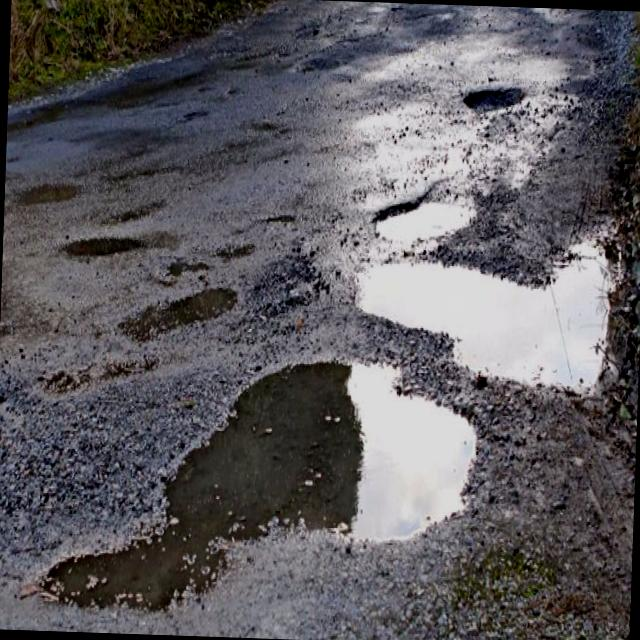bad-road: (41, 348, 482, 626), (353, 254, 615, 358), (373, 188, 478, 243), (460, 80, 526, 114)
